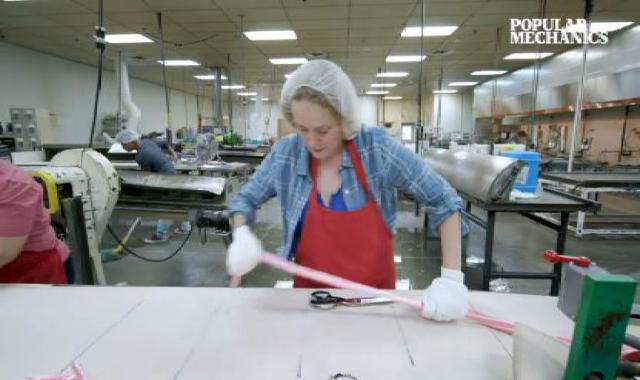hairnet: (274, 62, 372, 142)
